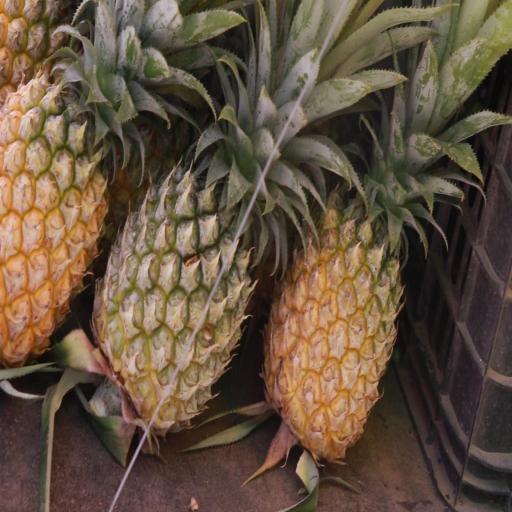Pineapple - v8 v1: (254, 96, 400, 470), (0, 14, 106, 369)
